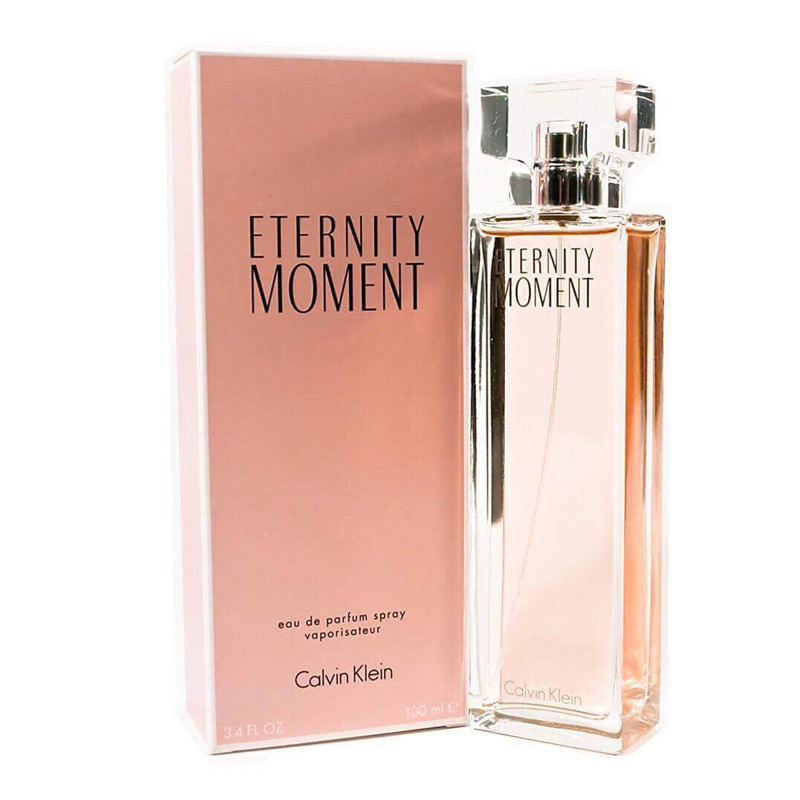Calvin Klein: (281, 659, 415, 693), (496, 677, 586, 714)
